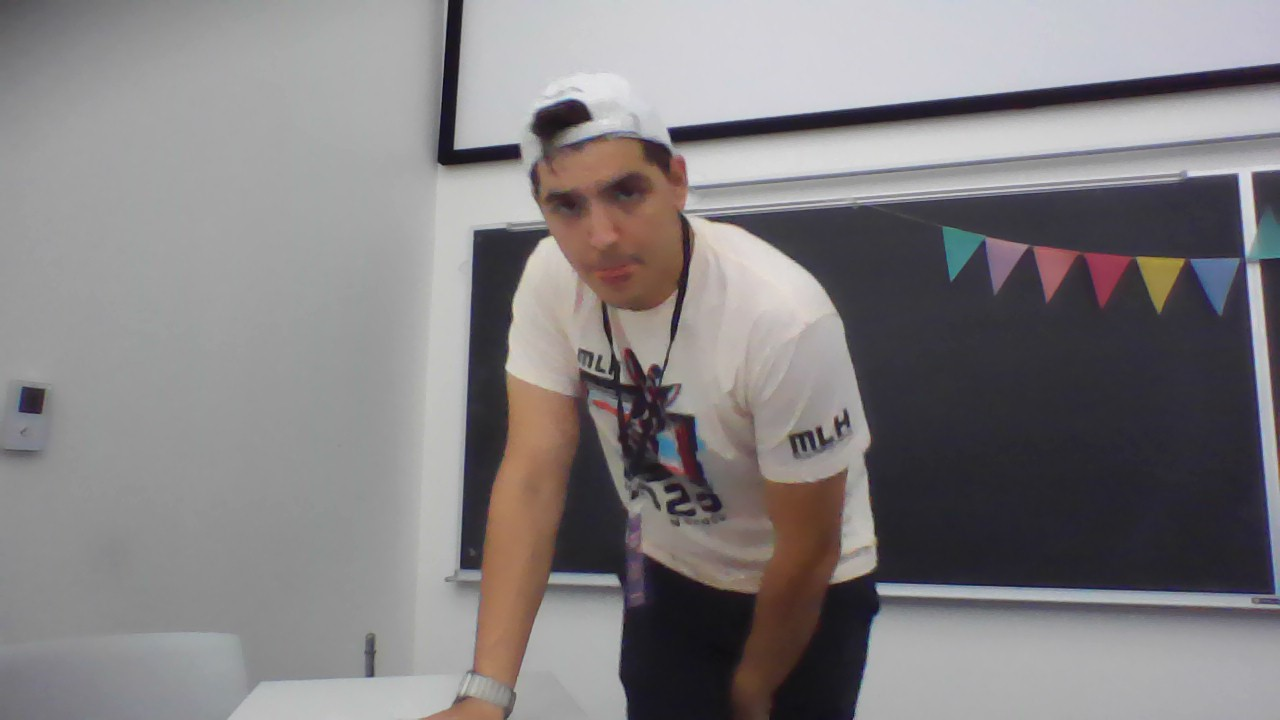height_frame: (499, 57, 919, 715)
hip_frame: (619, 545, 884, 586)
shoulder_frame: (522, 256, 828, 339)
waist_frame: (606, 451, 868, 489)
